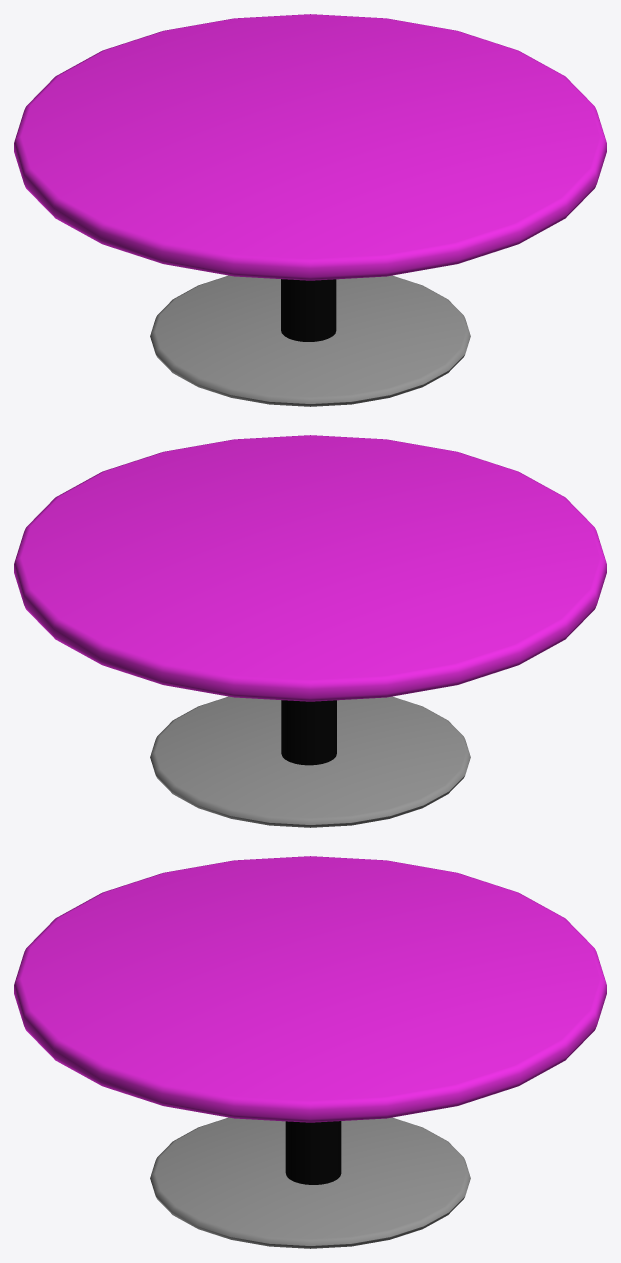
The model's file is SM_table_ronde.fbx.
The picture shows the model from 3 angles, top to bottom: view 1: azimuth 30°, elevation 25°; view 2: azimuth 150°, elevation 25°; view 3: azimuth 270°, elevation 25°; orthographic projection.
Parts seen in each view (by area): view 1: Cylinder.005, Cylinder.006, Cylinder.007; view 2: Cylinder.005, Cylinder.006, Cylinder.007; view 3: Cylinder.005, Cylinder.006, Cylinder.007.
Boxes of the visible parts, x1,y1,x2,y2 form: Cylinder.005: [14, 14, 606, 280]; Cylinder.006: [150, 275, 470, 406]; Cylinder.007: [281, 279, 336, 341]; Cylinder.005: [14, 435, 606, 701]; Cylinder.006: [150, 696, 470, 827]; Cylinder.007: [281, 700, 336, 765]; Cylinder.005: [14, 856, 606, 1122]; Cylinder.006: [150, 1117, 470, 1248]; Cylinder.007: [285, 1121, 341, 1184].
Bounding box in the file's own units: 209 × 79.42 × 209.
